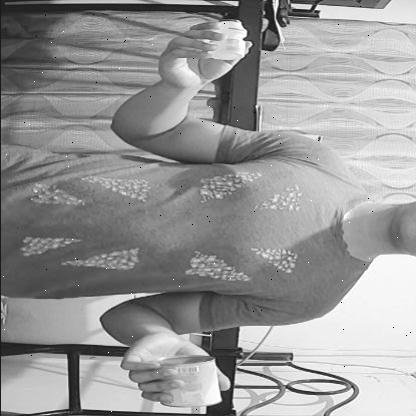Others: (196, 9, 264, 72)
